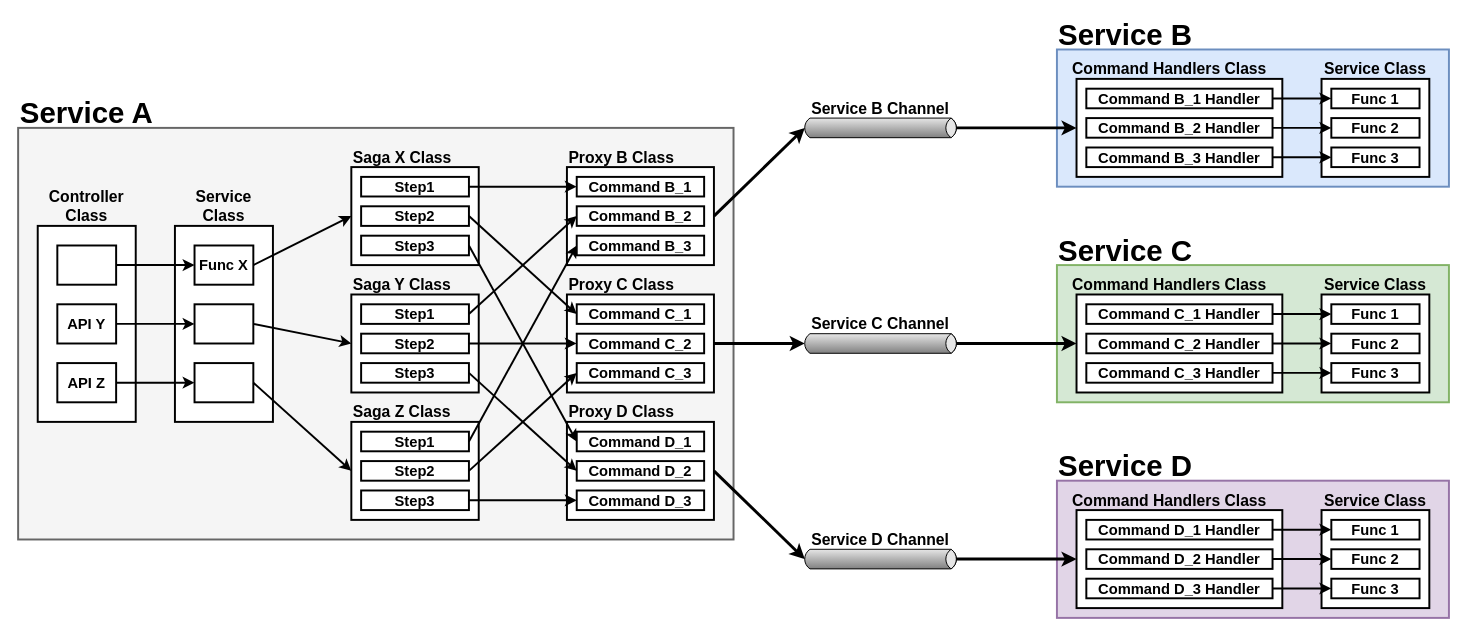
This 1466x635 diagram has some shape labels left out. Here are the shapes that lost their labels. From the top down, the box of each, then its label:
(56, 244, 117, 285): API X
(193, 303, 254, 344): Func Y
(193, 362, 254, 403): Func Z
